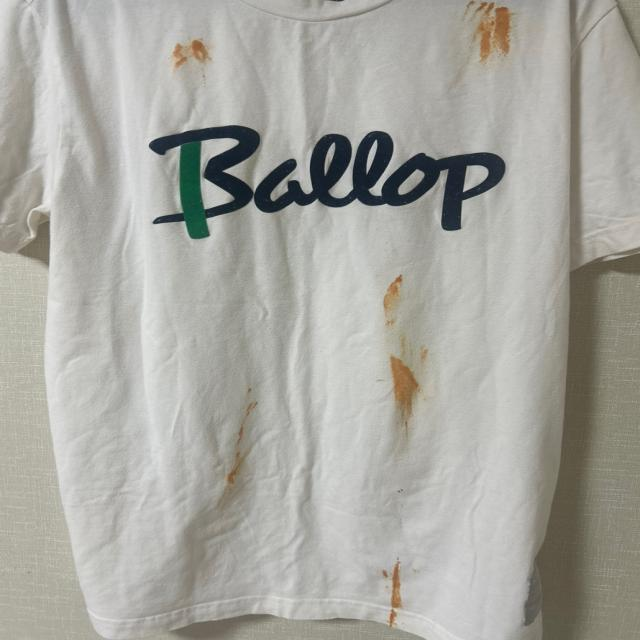stain: (384, 347, 429, 437), (463, 0, 521, 66), (387, 326, 437, 366), (382, 562, 408, 627), (382, 276, 412, 322), (172, 37, 208, 68), (238, 398, 255, 454), (222, 459, 250, 486)
